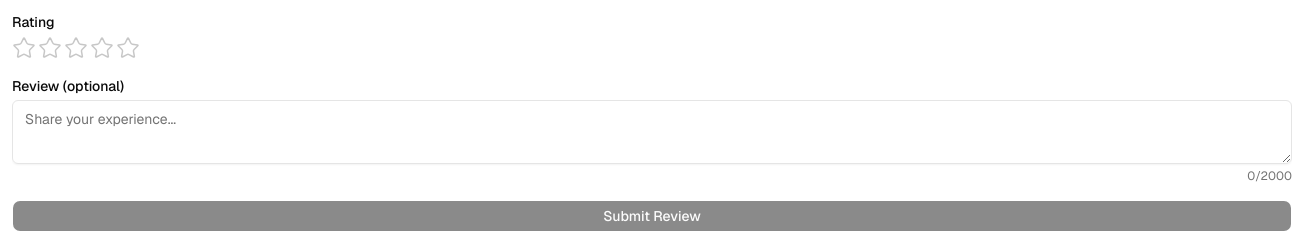
it: ReviewForm › shows character count for textarea
expect the text "0/2000" is shown: met, box 1247,168 -> 1292,184
Type "Hello" into the text box with placeholder "Share your experience...".
click(652, 132); type("Hello")  # box 12,100 -> 1292,164
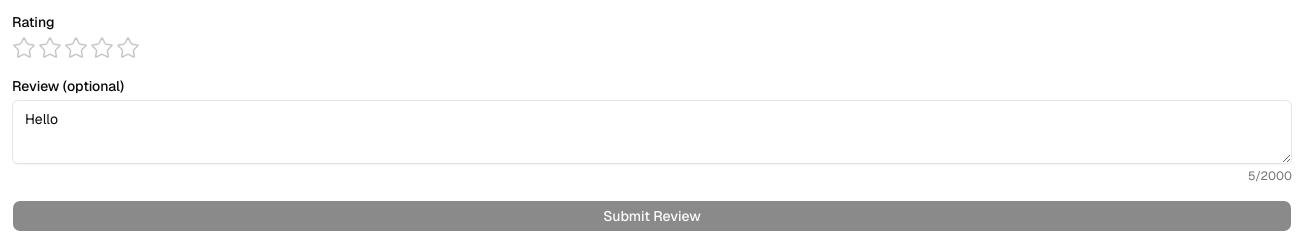
expect the text "5/2000" is shown: met, box 1248,168 -> 1292,184
